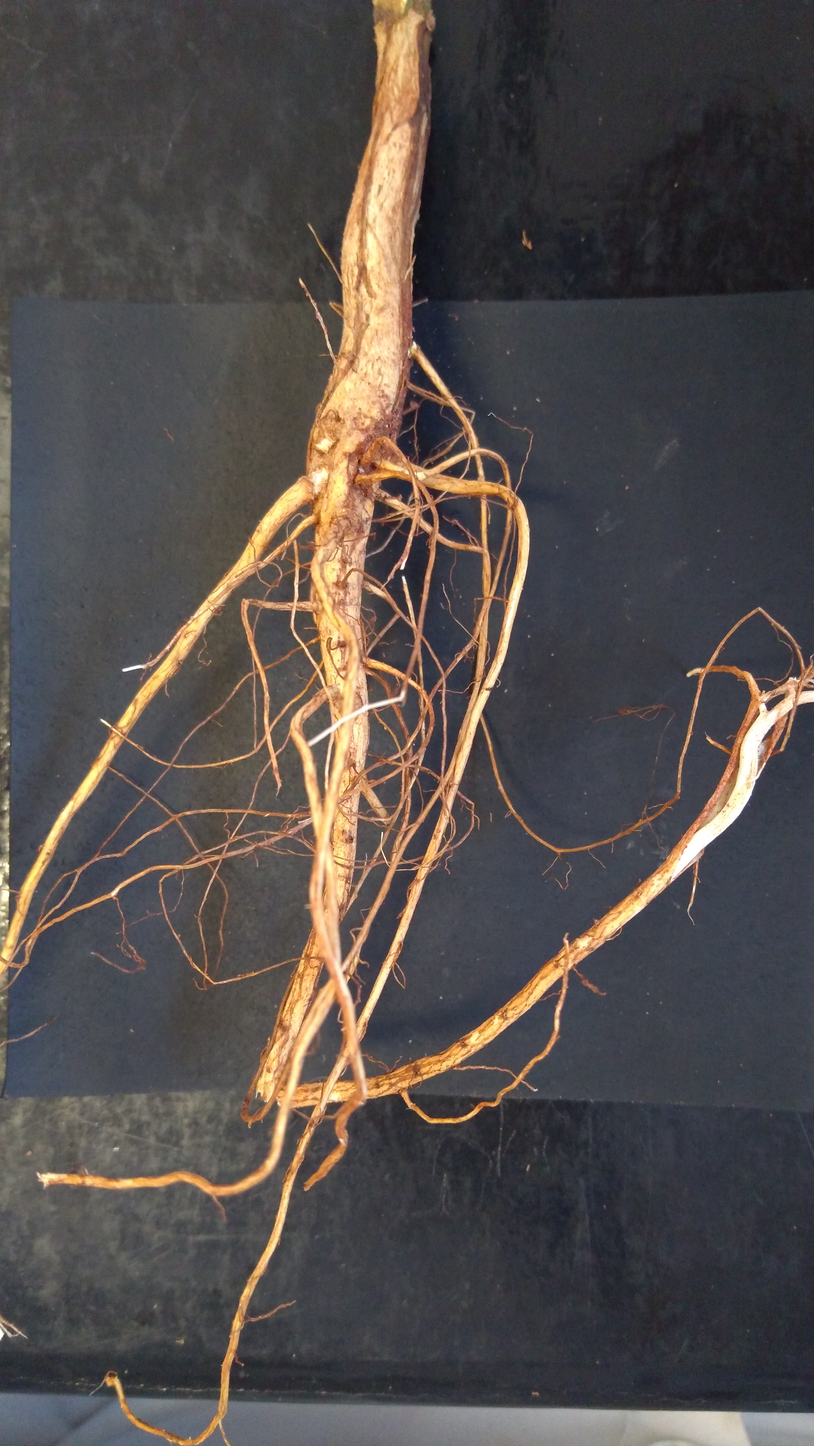nodule: (409, 400, 419, 410)
